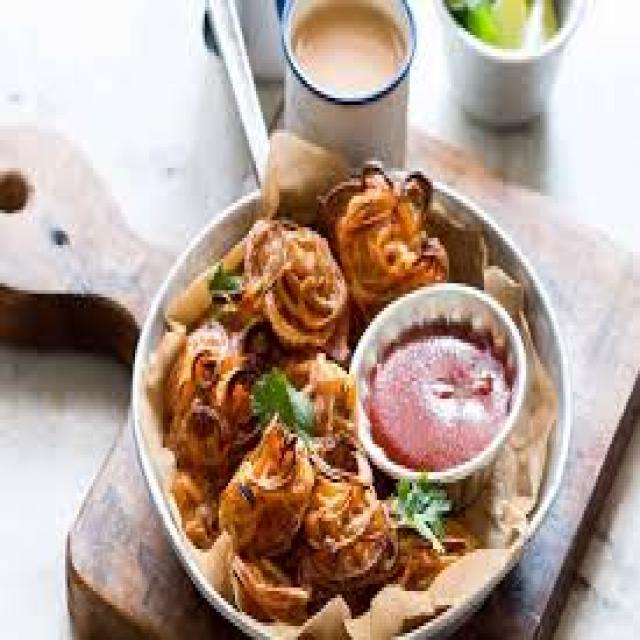BAJI: (151, 330, 462, 603), (308, 159, 452, 318), (232, 217, 352, 351)
